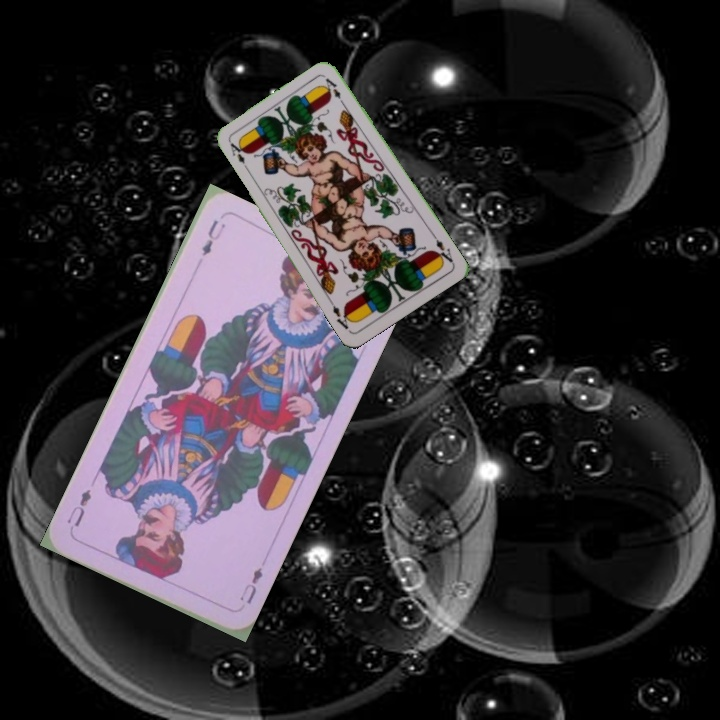EA: (428, 230, 456, 267), (226, 139, 252, 174)
EU: (197, 215, 228, 259), (236, 563, 266, 607)
